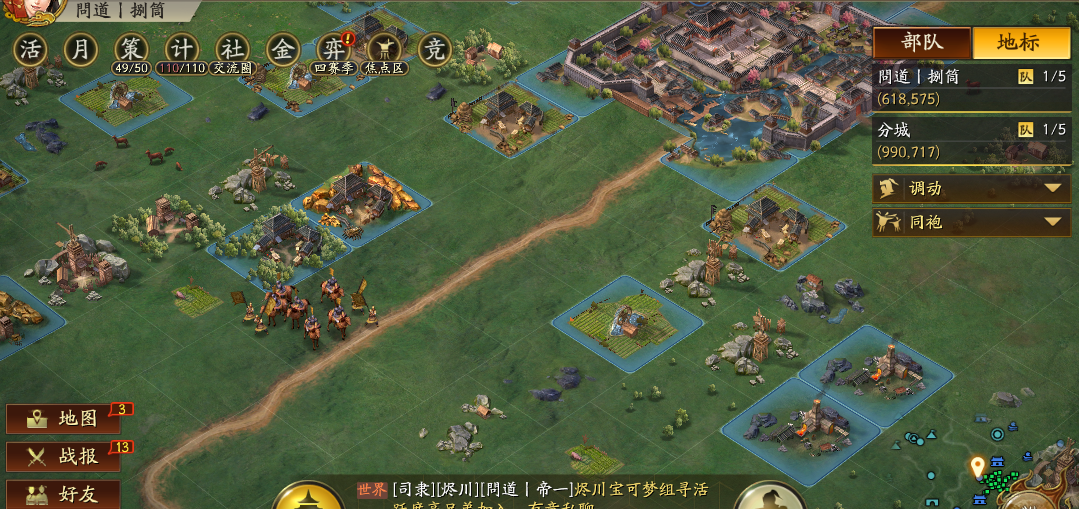sanzhan_plot_node: (382, 376, 553, 488), (716, 378, 881, 490), (550, 275, 714, 378), (800, 325, 957, 428), (681, 300, 824, 410), (8, 225, 154, 329), (738, 253, 903, 343), (700, 181, 854, 272), (632, 229, 782, 320), (93, 182, 238, 276), (206, 205, 355, 296), (288, 161, 435, 252), (185, 145, 325, 232), (443, 80, 581, 161), (57, 70, 196, 138)
